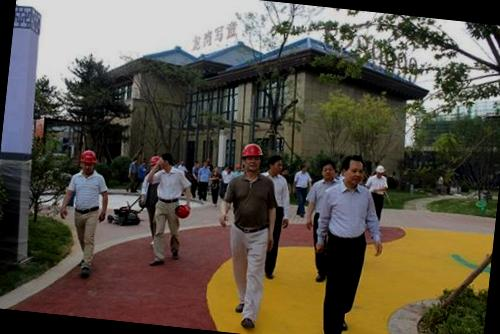no_helmet: (338, 152, 368, 188), (263, 150, 286, 180), (317, 158, 337, 184), (158, 150, 175, 170)
